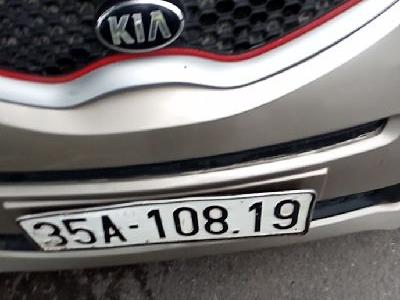number: (19, 193, 317, 253)
